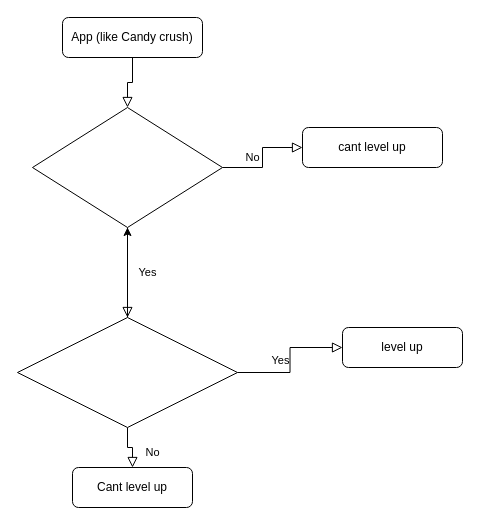
The diagram is 480 pixels wide and 525 high, and some of its shapes have lost their labels. Here are the shapes that lost their labels. From the top down, the box of each, then its label:
(32, 106, 222, 228): 10 personalized tasks based on med reports
(16, 316, 238, 428): level up + new tasks based on personalized reports + ai reports
